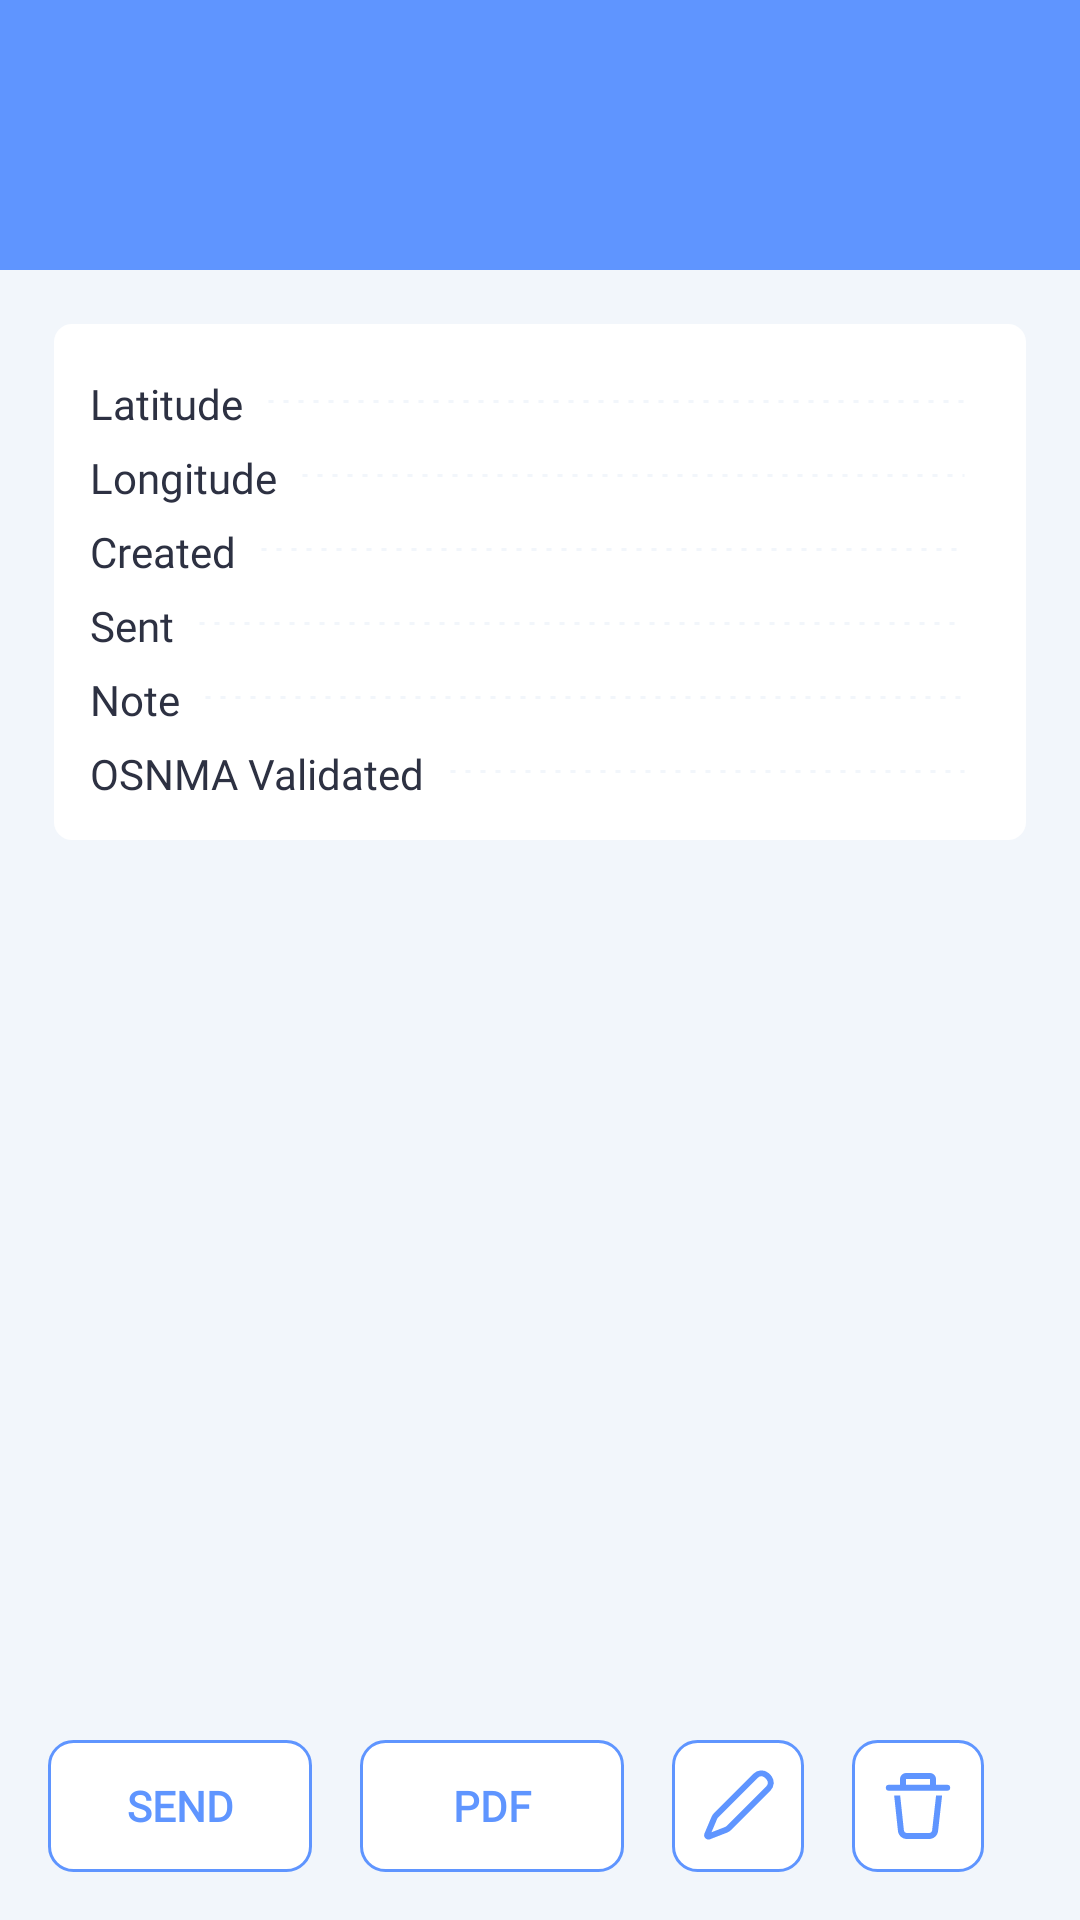

Icons on this 1080*1920 Android screen, each with its box as (x1, y1, x2, y2):
all pencil: (672, 1740, 804, 1872)
all trash: (852, 1740, 984, 1872)
